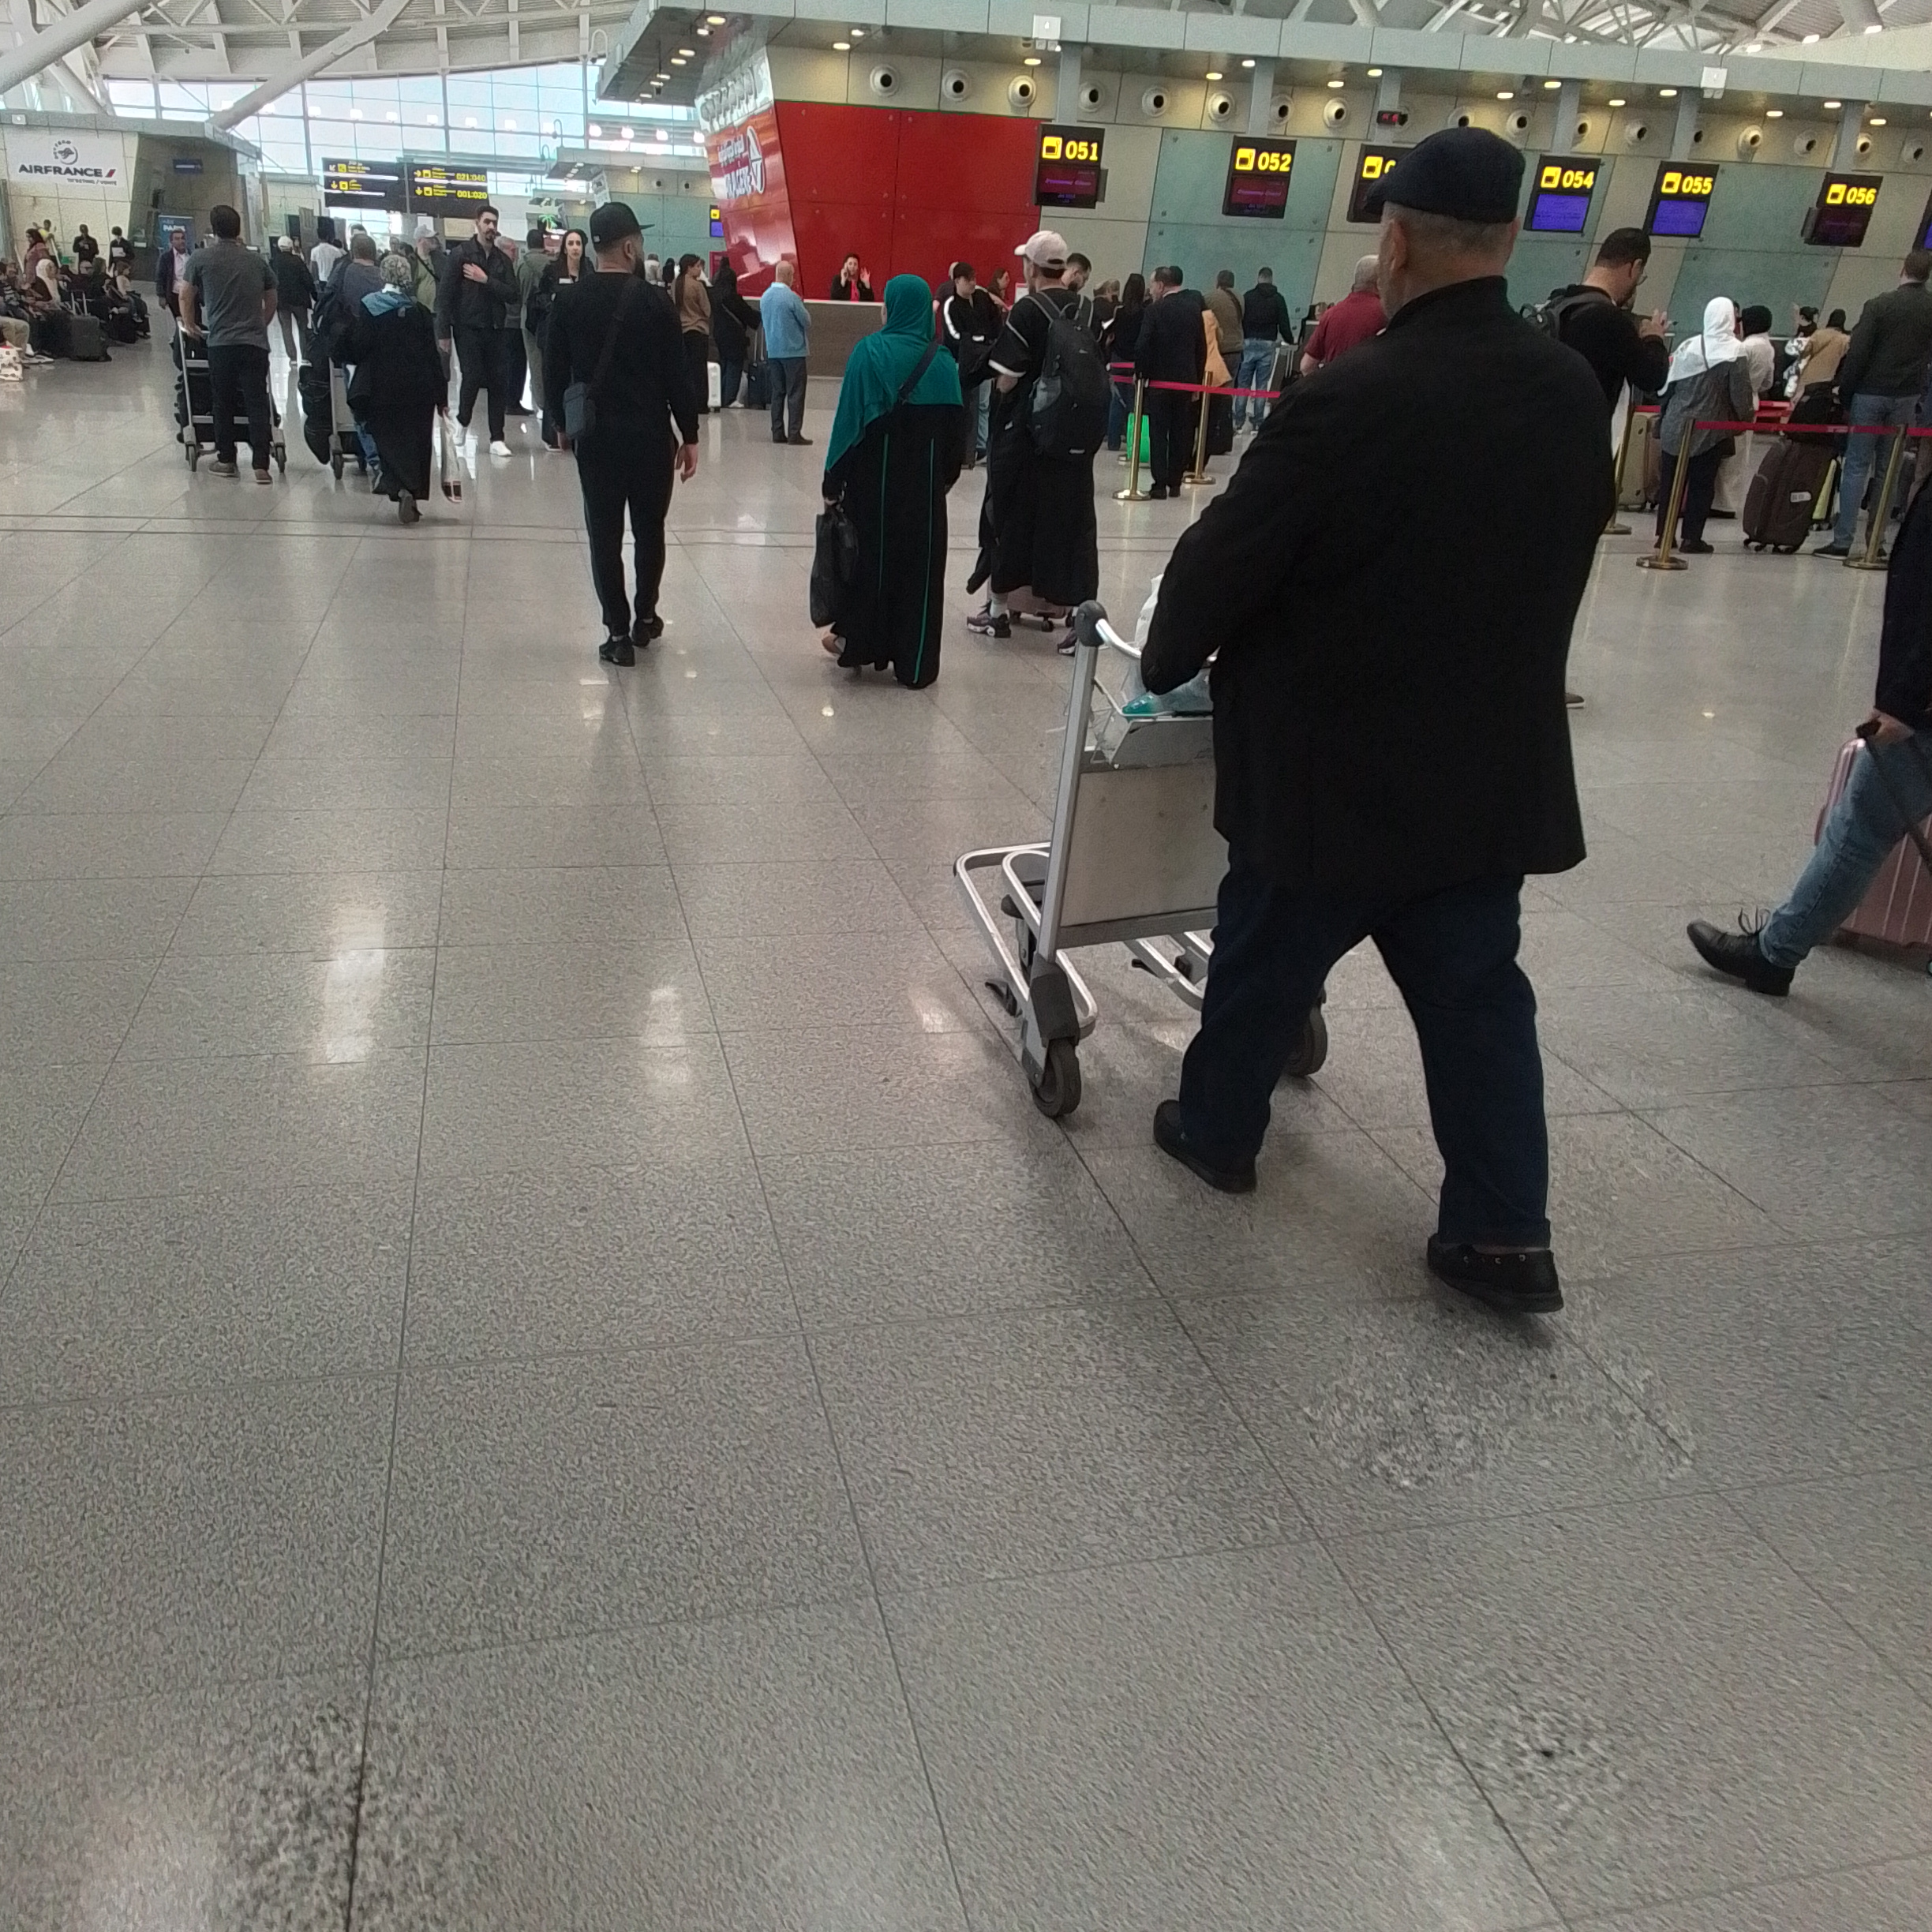airport-trolley: (934, 616, 1341, 1132)
